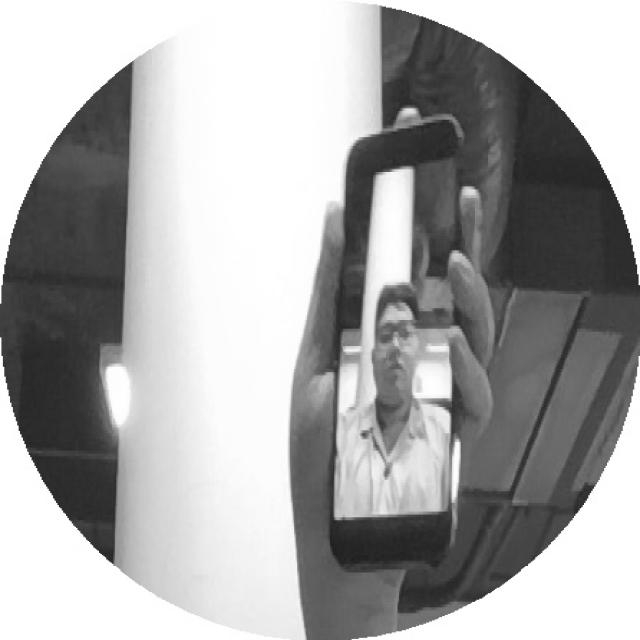fake: (299, 104, 497, 590), (318, 110, 481, 579)
